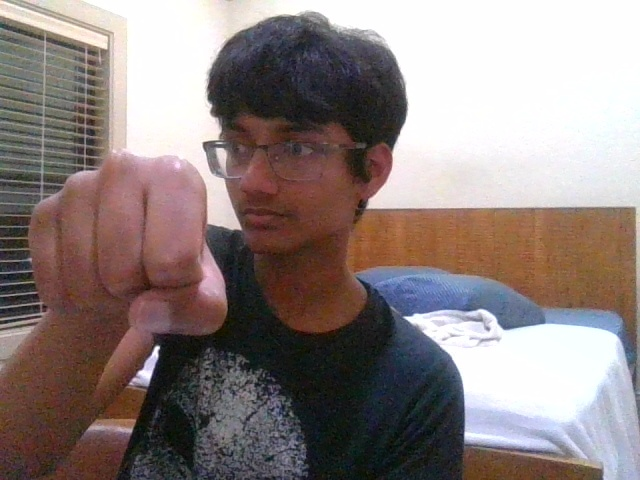yes: (28, 151, 228, 335)
